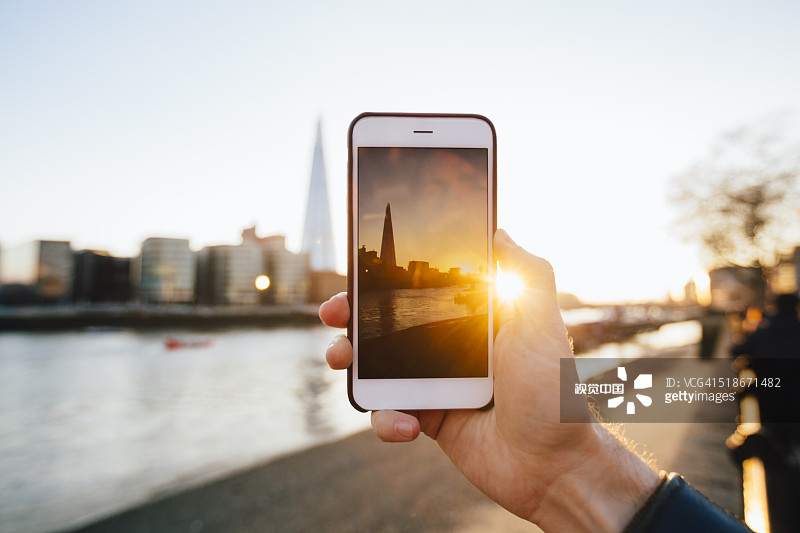taking photos: (307, 153, 615, 533)
